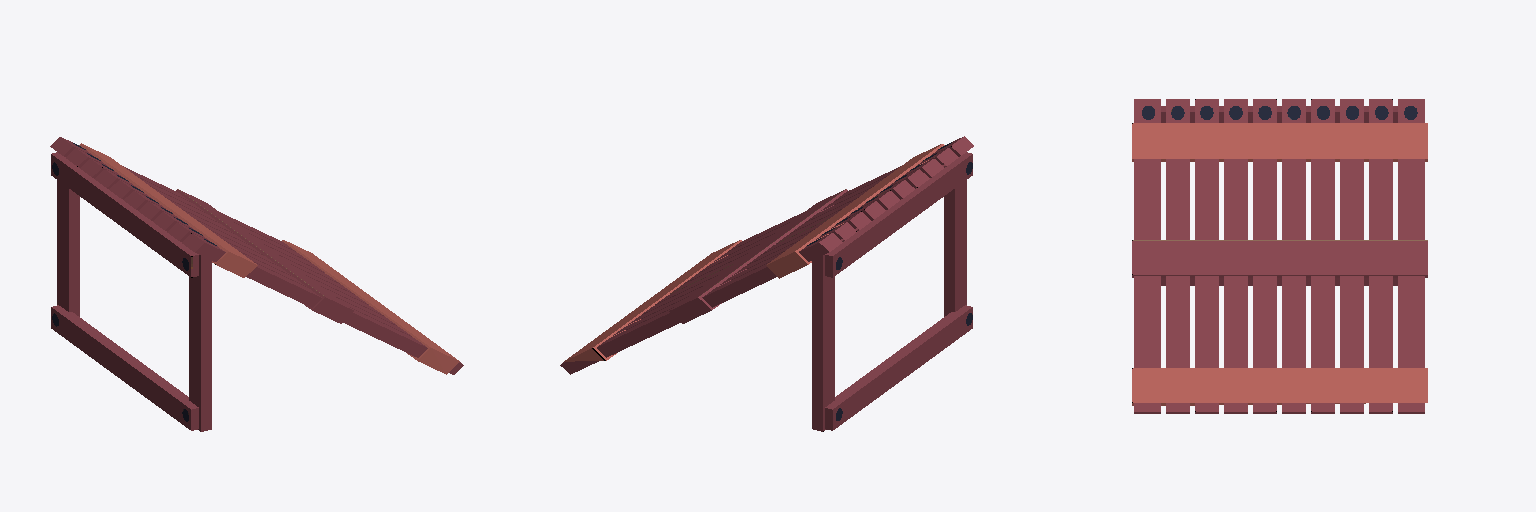
3 renders of one model, left to right at view 1: azimuth 30°, elevation 25°; view 2: azimuth 150°, elevation 25°; view 3: azimuth 270°, elevation 25°, orthographic.
Parts seen in each view (by area): view 1: Ramp_Cube.013; view 2: Ramp_Cube.013; view 3: Ramp_Cube.013.
Boxes of the visible parts, x1,y1,x2,y2 form: Ramp_Cube.013: [50, 137, 463, 431]; Ramp_Cube.013: [560, 136, 973, 431]; Ramp_Cube.013: [1132, 99, 1427, 413].
Bounding box in the file's own units: 0.8955 × 0.609 × 0.8461.
3 materials, 1 textured.